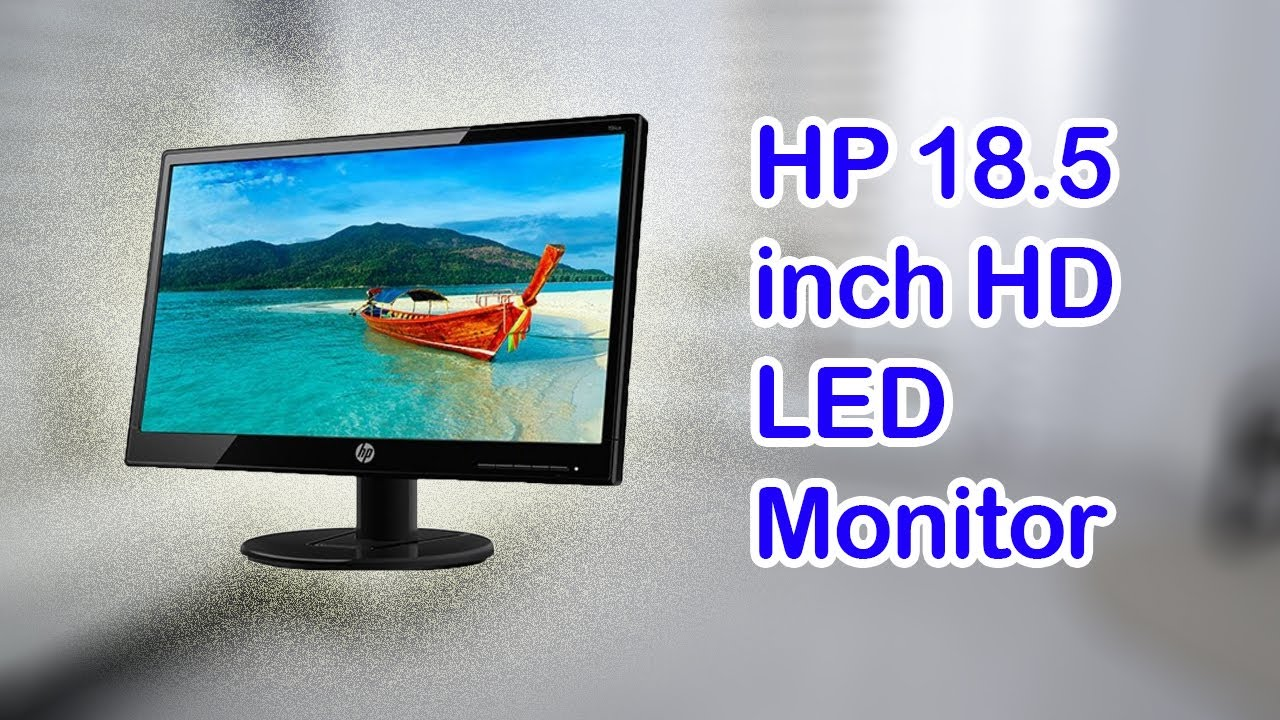hp-monitor-19ka: (119, 108, 649, 580)
